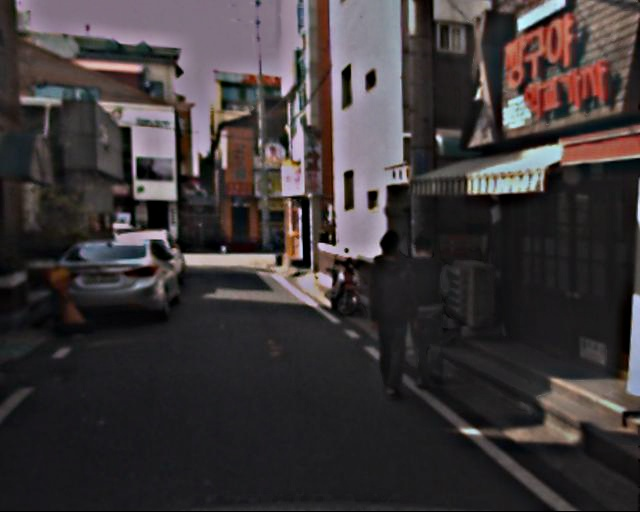person: (358, 236, 424, 397), (394, 236, 456, 388)
